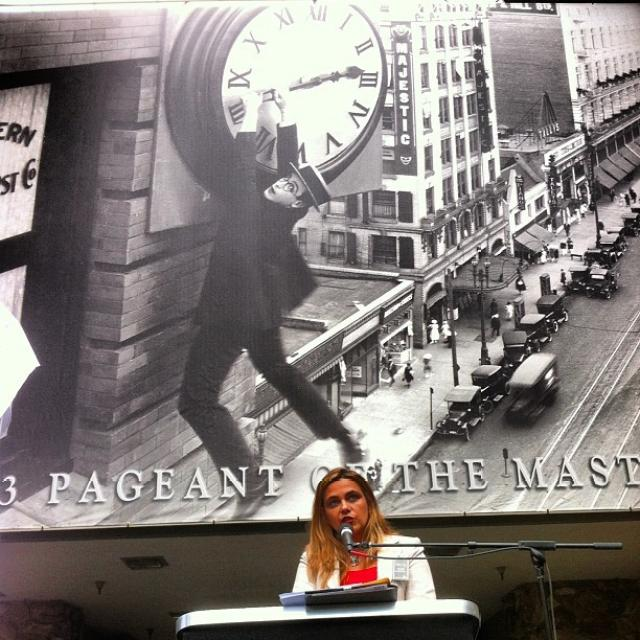Vehicle: (501, 352, 559, 428), (505, 352, 562, 428), (434, 385, 487, 442), (471, 365, 512, 413), (494, 329, 534, 377), (536, 290, 569, 334), (519, 313, 553, 353), (586, 267, 620, 300), (586, 233, 624, 262), (562, 265, 590, 297), (620, 211, 640, 236), (607, 227, 627, 240)
